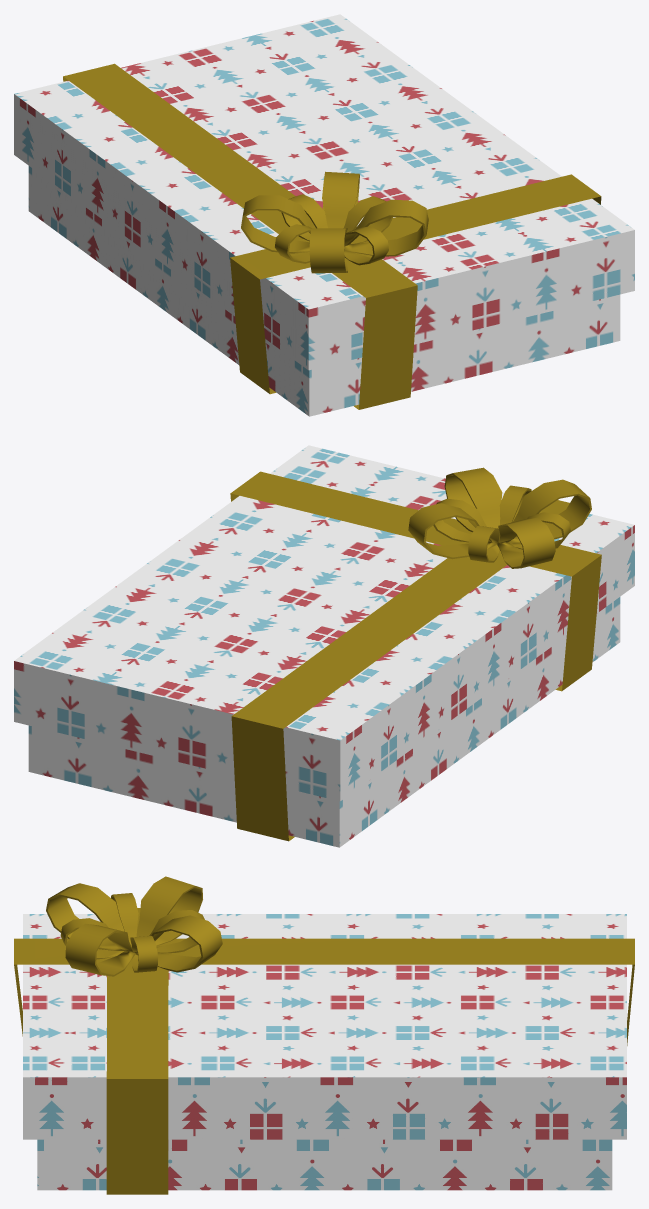
File: gift 02 ribbon02.fbx
The picture shows the model from 3 angles, top to bottom: view 1: azimuth 30°, elevation 25°; view 2: azimuth 150°, elevation 25°; view 3: azimuth 270°, elevation 25°; orthographic projection. The views are drawn at different scales.
Parts seen in each view (by area): view 1: gift, ribbon_02, Gift02; view 2: gift, ribbon_02, Gift02; view 3: gift, ribbon_02, Gift02.
Part boxes in pixels (<box>): gift: <box>14,14,634,416</box>; ribbon_02: <box>63,63,601,409</box>; Gift02: <box>241,171,428,273</box>; gift: <box>14,445,634,847</box>; ribbon_02: <box>230,471,601,841</box>; Gift02: <box>408,467,591,568</box>; gift: <box>23,914,626,1190</box>; ribbon_02: <box>14,908,634,1194</box>; Gift02: <box>46,876,222,976</box>.
Size of the model in its own units: 32.96 by 14.88 by 50.66.
Materials: 2 (1 with a texture image).
